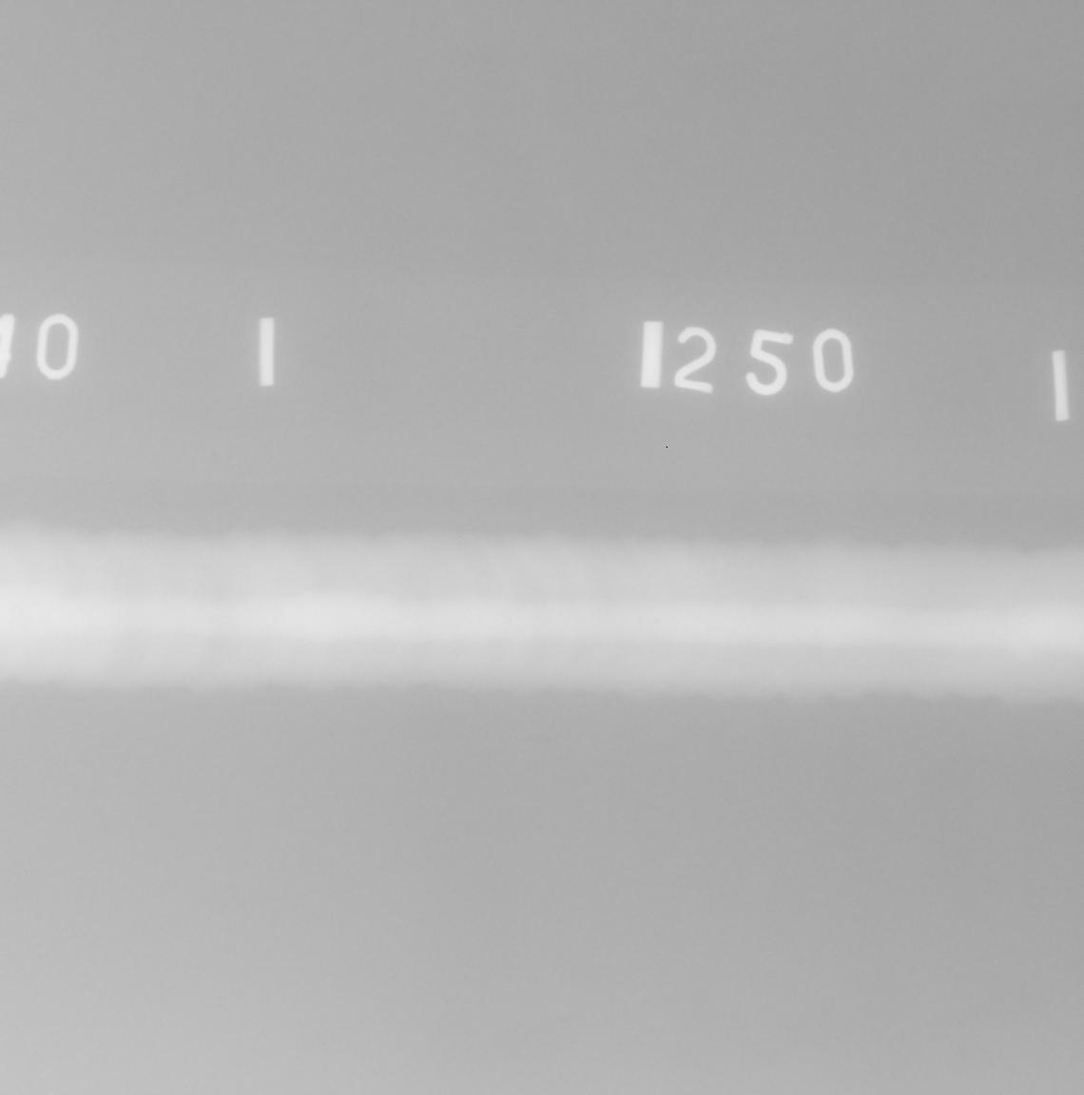Inclusion: (504, 617, 514, 624), (923, 602, 931, 609), (652, 619, 662, 624), (217, 545, 223, 553), (968, 634, 977, 639), (200, 544, 205, 552), (249, 544, 258, 548)
